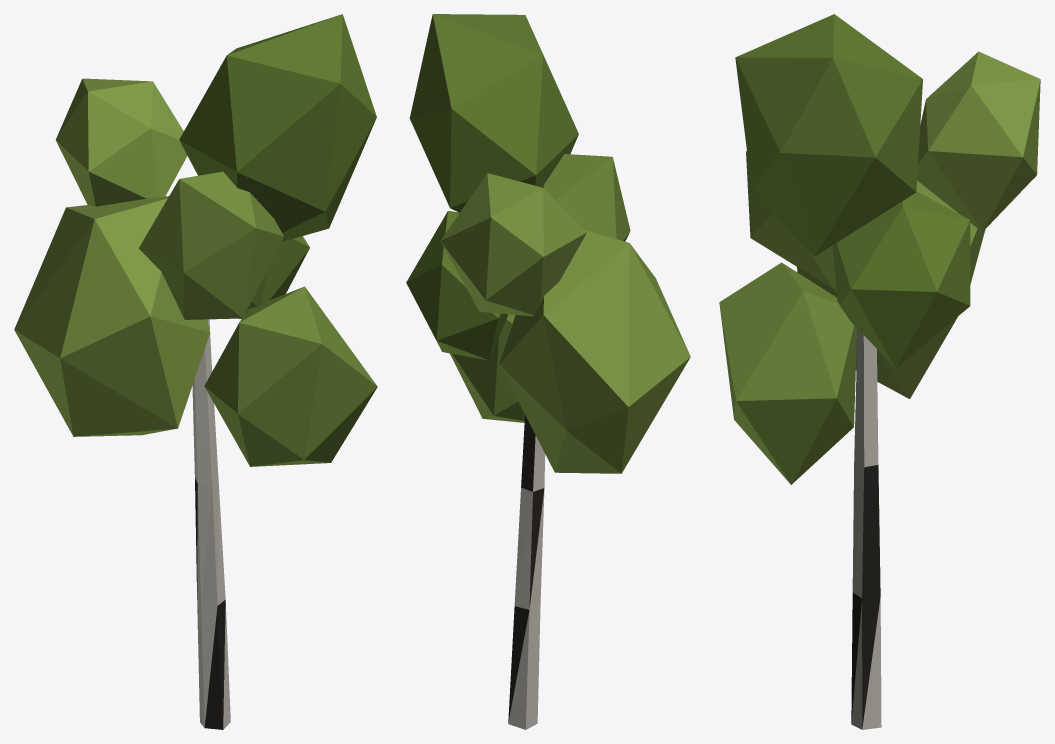
File: e2b_birk.glb
3 renders of one model, left to right at view 1: azimuth 30°, elevation 25°; view 2: azimuth 150°, elevation 25°; view 3: azimuth 270°, elevation 25°, orthographic. The views are drawn at different scales.
Parts seen in each view (by area): view 1: E2_birk_b; view 2: E2_birk_b; view 3: E2_birk_b.
Part boxes in pixels (left/top/right/bottom): E2_birk_b: left=14, top=14, right=377, bottom=729; E2_birk_b: left=406, top=14, right=690, bottom=729; E2_birk_b: left=719, top=14, right=1040, bottom=729.
Bounding box in the file's own units: 3.38 × 7.92 × 3.19.
